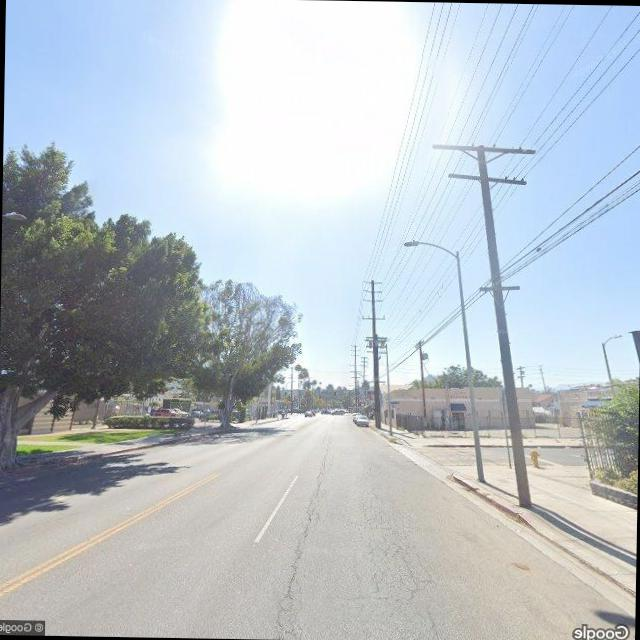crack: (349, 462, 436, 613), (272, 462, 338, 636)
